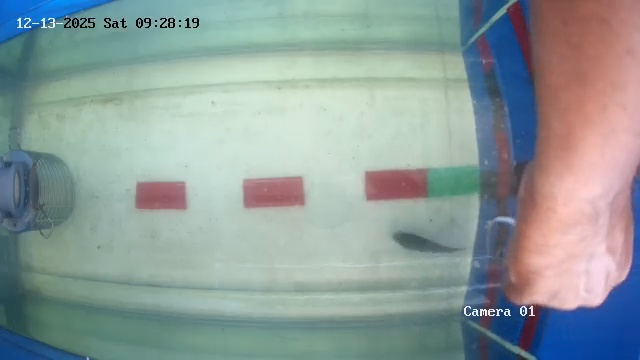fish: (386, 230, 467, 255)
